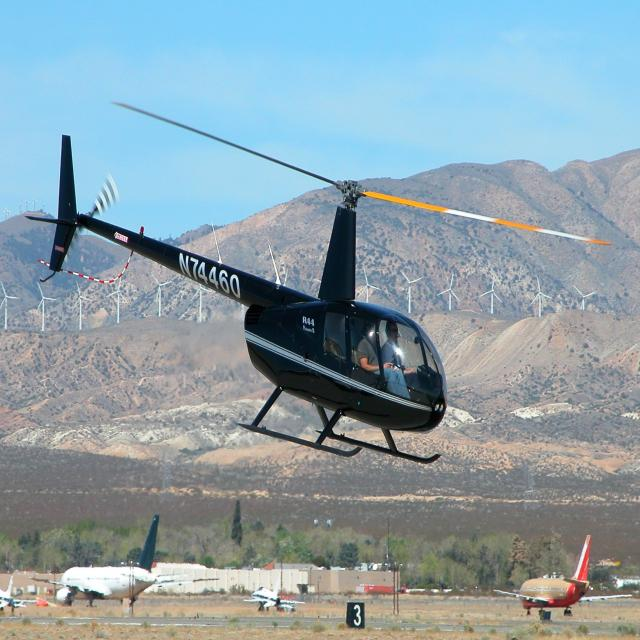CIV_HELO: (24, 132, 448, 466)
